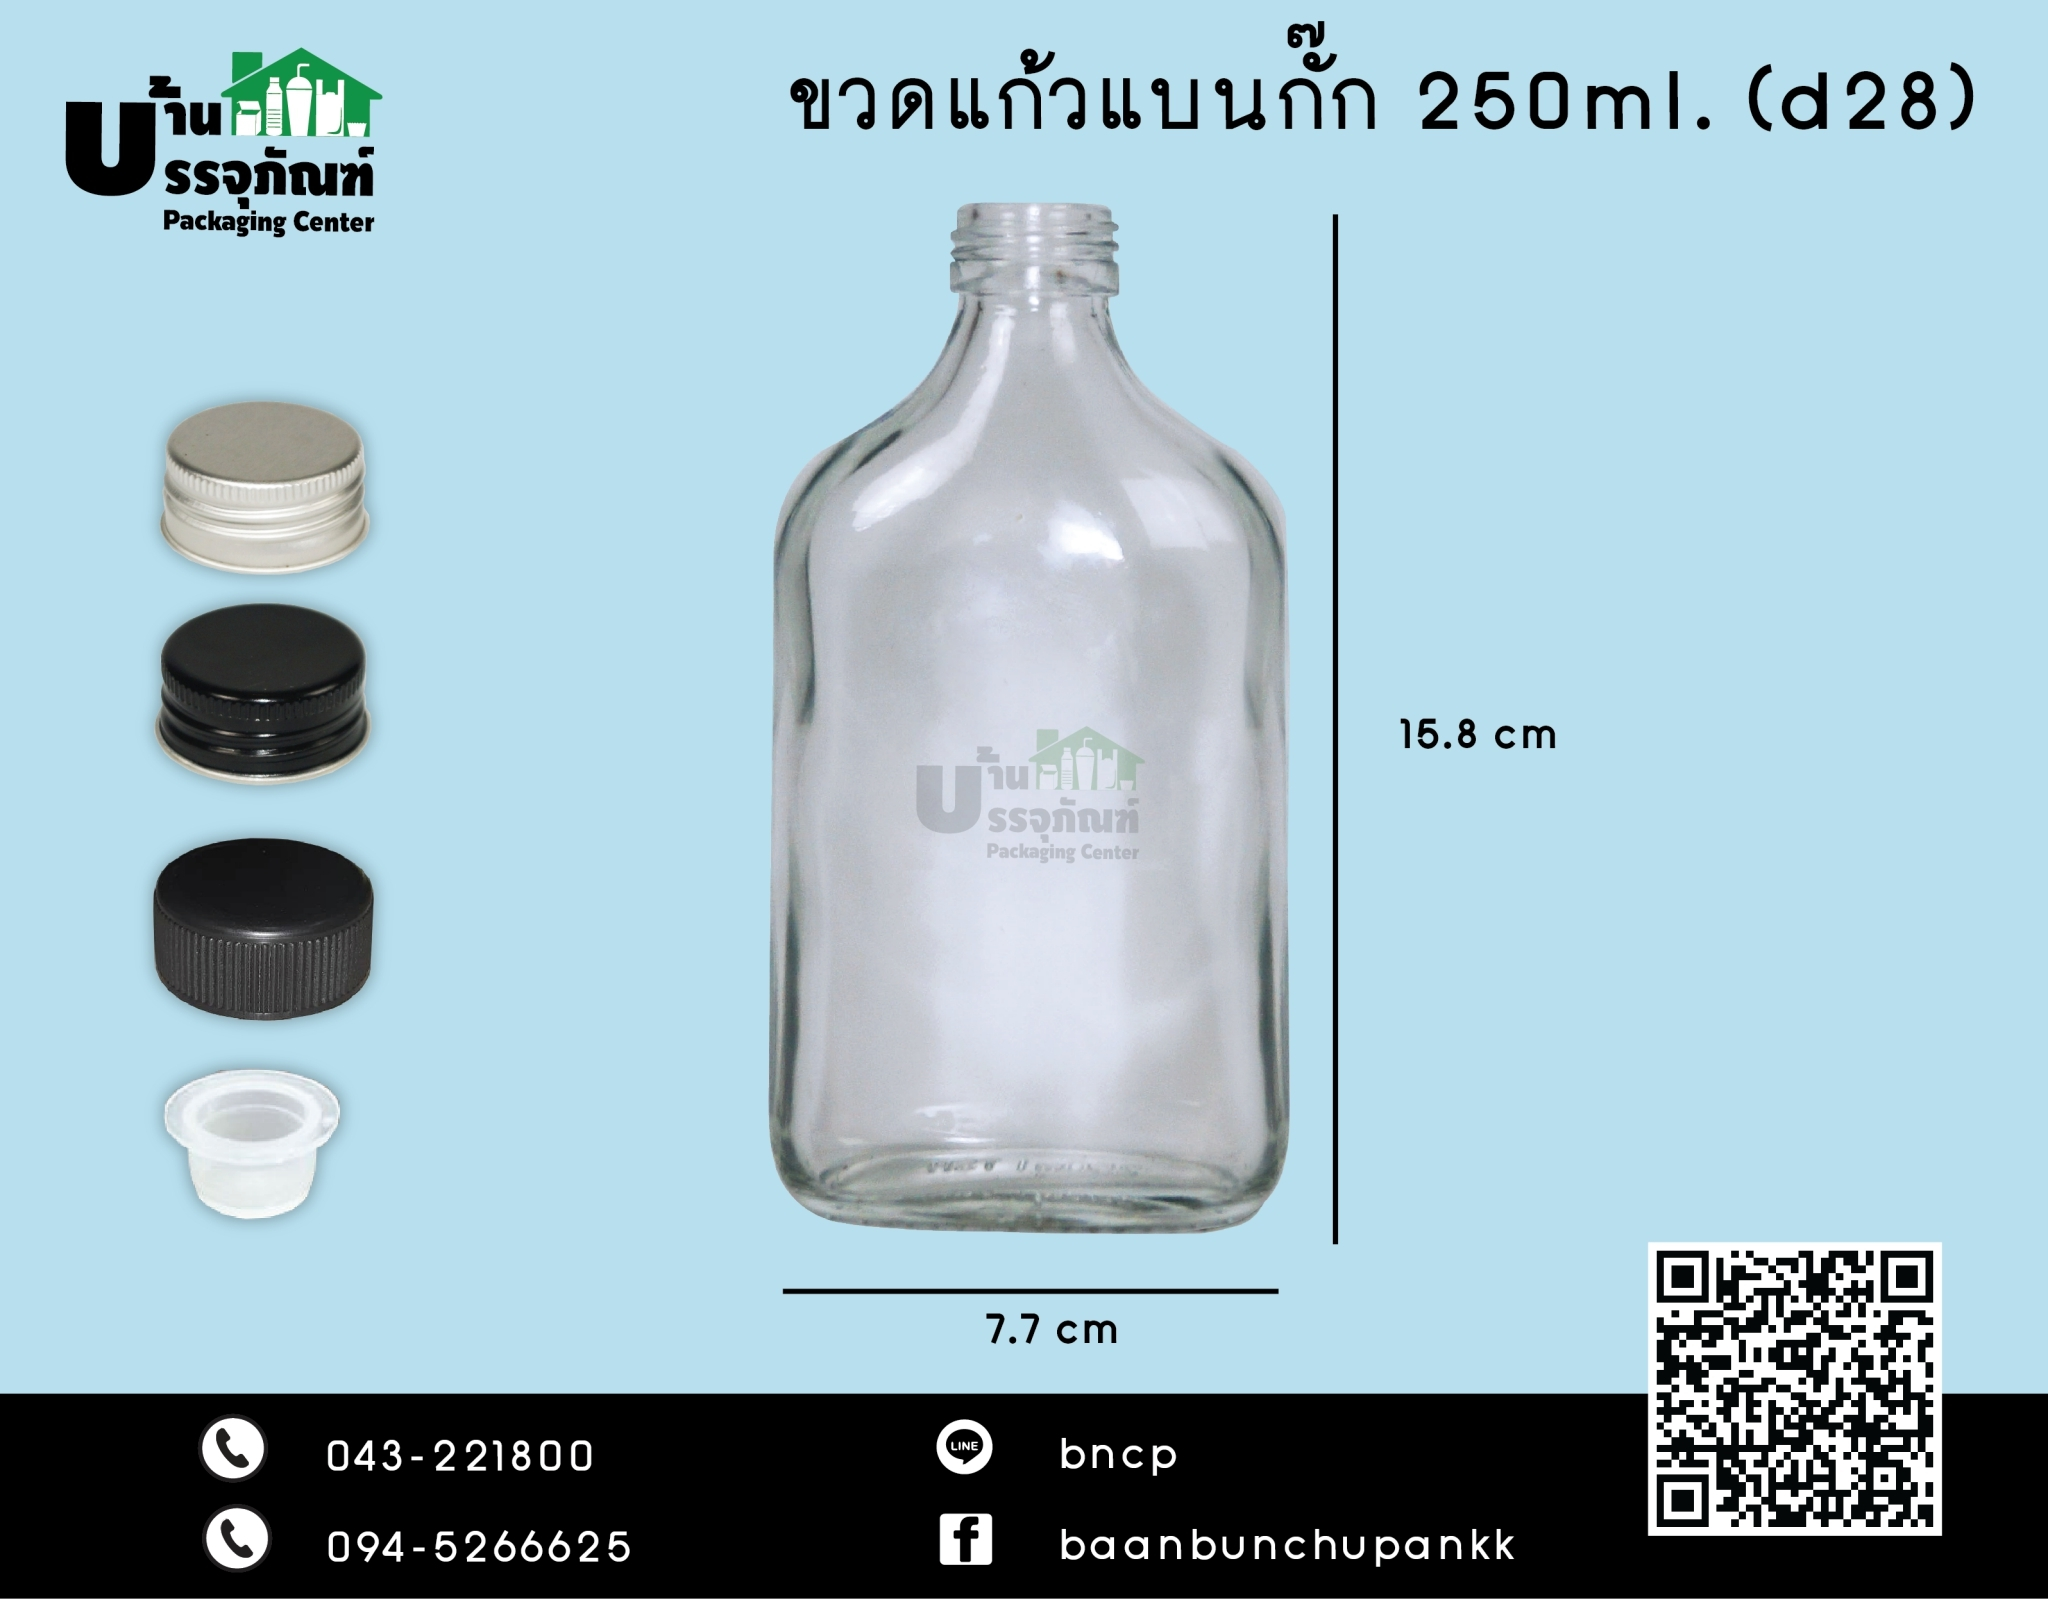glass_bottle: (736, 179, 1312, 1260)
